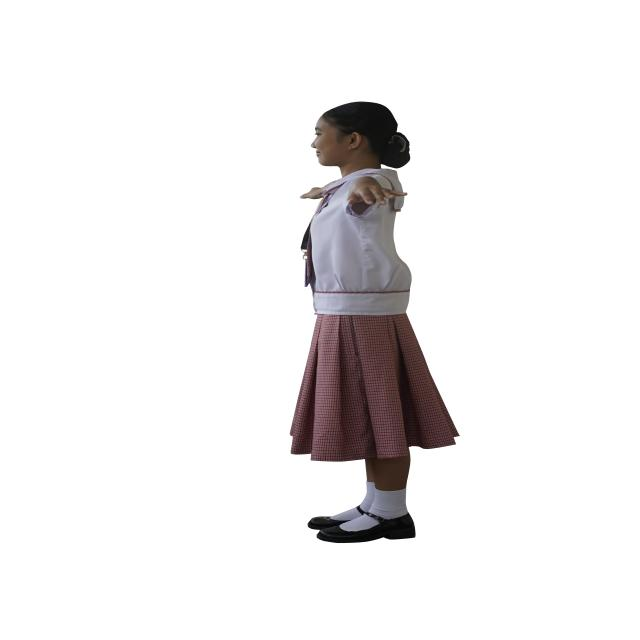pologirl: (304, 168, 411, 316)
shoes: (308, 506, 416, 543)
skirt: (291, 313, 458, 462)
